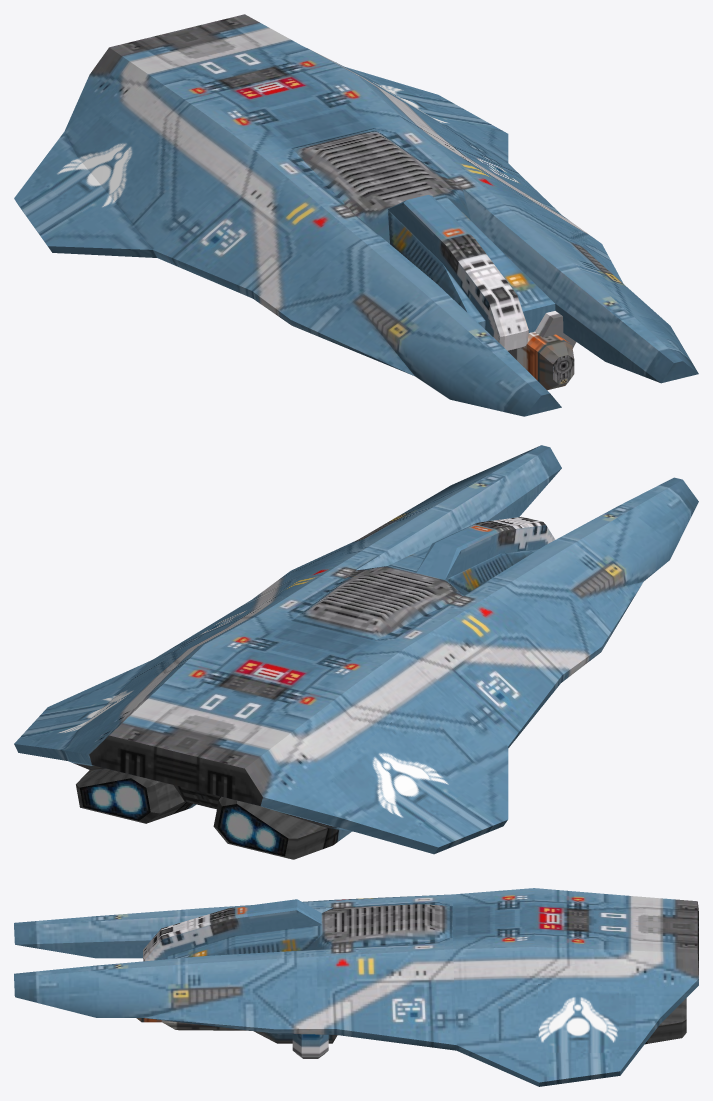
Rendered from hgn-interceptor.glb.
3 renders of one model, top to bottom at view 1: azimuth 30°, elevation 25°; view 2: azimuth 150°, elevation 25°; view 3: azimuth 270°, elevation 25°, orthographic. The views are drawn at different scales.
Parts seen in each view (by area): view 1: Object_2, Object_3, Object_5, Object_4; view 2: Object_2, Object_3, Object_4; view 3: Object_2, Object_4, Object_5.
Part boxes in pixels (bbox=[...]): Object_2: bbox=[14, 14, 698, 416]; Object_3: bbox=[40, 116, 165, 218]; Object_5: bbox=[509, 331, 574, 390]; Object_4: bbox=[341, 65, 465, 127]; Object_2: bbox=[14, 445, 698, 859]; Object_3: bbox=[337, 722, 465, 828]; Object_4: bbox=[41, 668, 164, 737]; Object_2: bbox=[14, 888, 698, 1086]; Object_4: bbox=[538, 984, 618, 1052]; Object_5: bbox=[136, 1018, 337, 1043].
Bounding box in the file's own units: 10.54 × 3.49 × 17.28.
Materials: 4 (4 with a texture image).
